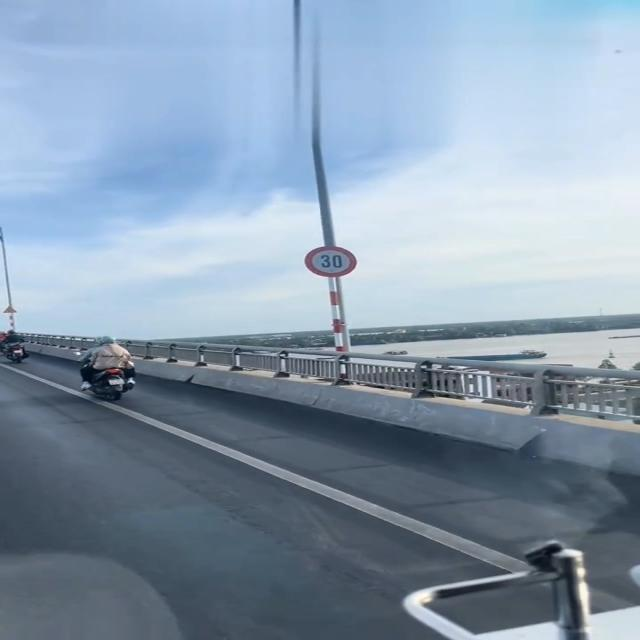127-toc-do-toi-da-30: (306, 246, 358, 276)
